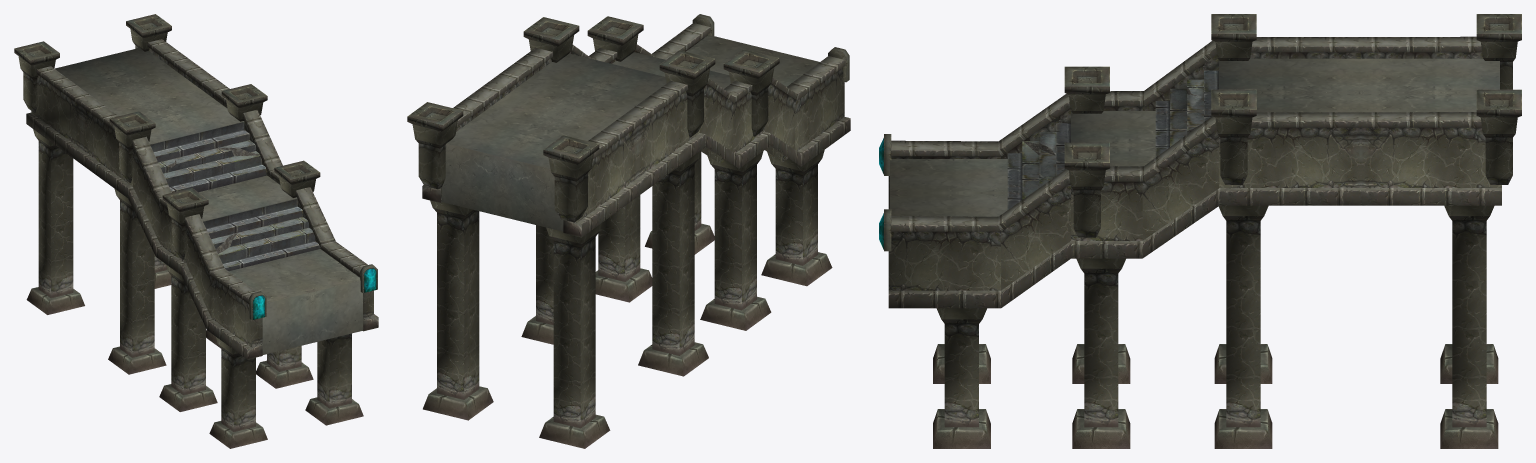
The model's file is F_gaodiqiao.fbx.
3 views of the same model, side by side, from view 1: azimuth 30°, elevation 25°; view 2: azimuth 150°, elevation 25°; view 3: azimuth 270°, elevation 25° (orthographic). The views are drawn at different scales.
Visible parts, largest first — view 1: F_gaodiqiao; view 2: F_gaodiqiao; view 3: F_gaodiqiao.
Part boxes in pixels (left/top/right/bottom): F_gaodiqiao: left=14, top=14, right=378, bottom=448; F_gaodiqiao: left=407, top=14, right=850, bottom=448; F_gaodiqiao: left=879, top=14, right=1521, bottom=448.
Bounding box in the file's own units: 558 × 928 × 1581.
